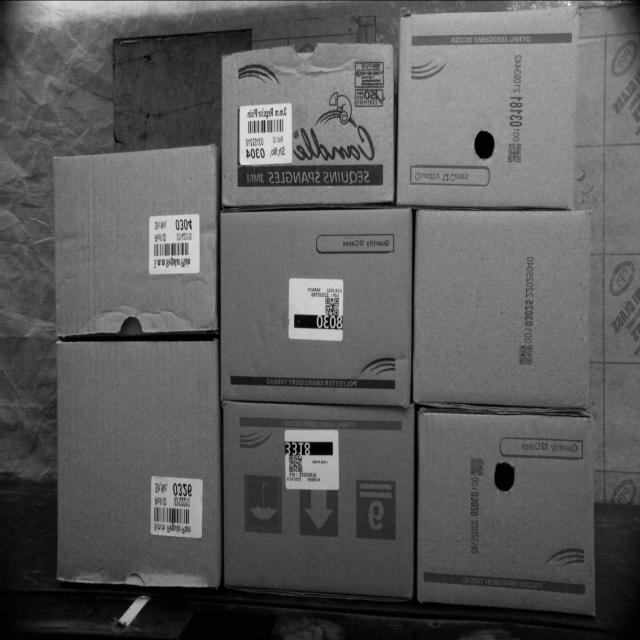cardboxes: (57, 344, 217, 586), (220, 208, 414, 398), (395, 11, 582, 204), (220, 404, 414, 590), (412, 414, 596, 606), (412, 212, 589, 408), (55, 148, 214, 336), (220, 41, 396, 203)
